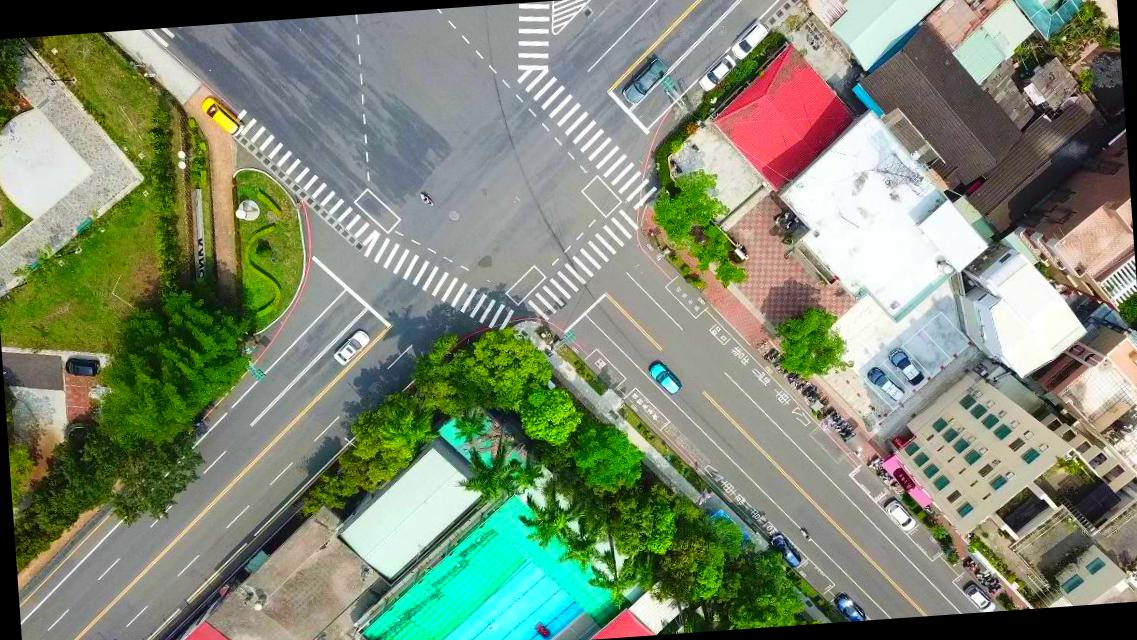vehicle: (619, 56, 668, 106), (200, 94, 242, 140), (728, 18, 770, 62), (331, 328, 372, 367), (695, 54, 735, 92), (866, 363, 904, 403), (888, 346, 924, 388), (646, 360, 682, 398), (767, 530, 801, 570), (962, 581, 996, 612), (831, 591, 866, 621), (884, 500, 916, 532), (63, 356, 100, 379)
